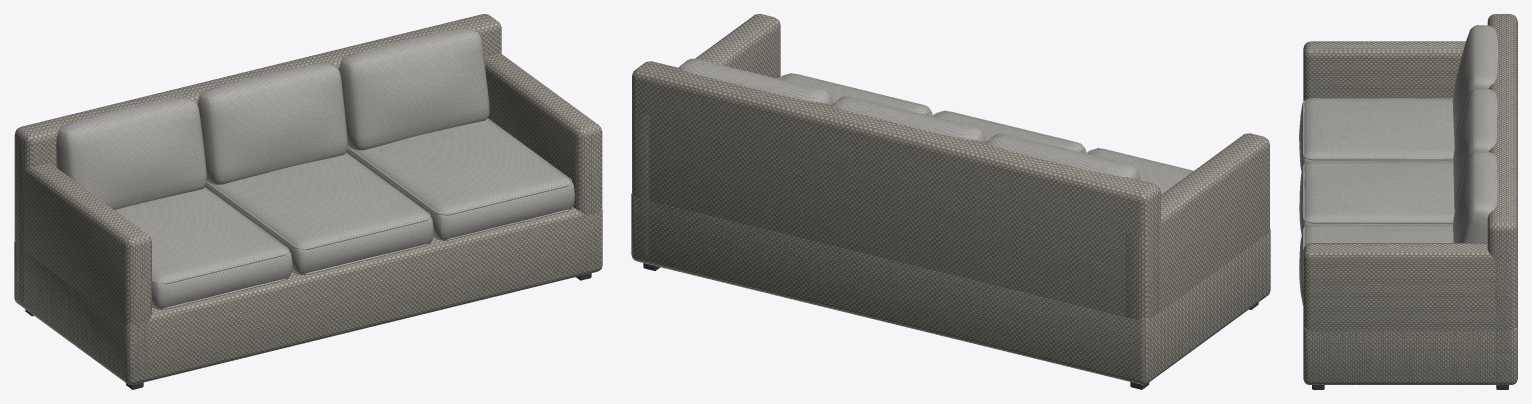
The model's file is sofa_ratan_3p_gris.glb.
3 views of the same model, side by side, from view 1: azimuth 30°, elevation 25°; view 2: azimuth 150°, elevation 25°; view 3: azimuth 270°, elevation 25° (orthographic). The views are drawn at different scales.
Parts seen in each view (by area): view 1: sofa_ratan_3p_gris; view 2: sofa_ratan_3p_gris; view 3: sofa_ratan_3p_gris.
Part boxes in pixels (x1,y1,x2,y2): sofa_ratan_3p_gris: [14, 14, 602, 389]; sofa_ratan_3p_gris: [631, 14, 1270, 389]; sofa_ratan_3p_gris: [1299, 14, 1517, 389].
Bounding box in the file's own units: 2 × 0.7633 × 0.8663.
Materials: 3 (2 with a texture image).
